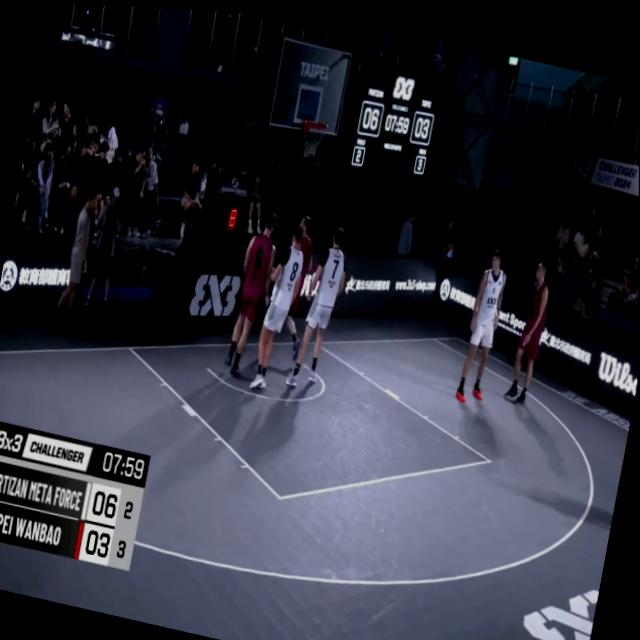hoop: (295, 111, 329, 161)
player: (284, 209, 355, 398), (247, 215, 310, 394), (222, 201, 284, 382), (452, 235, 513, 404), (264, 205, 323, 375), (501, 245, 558, 408)
